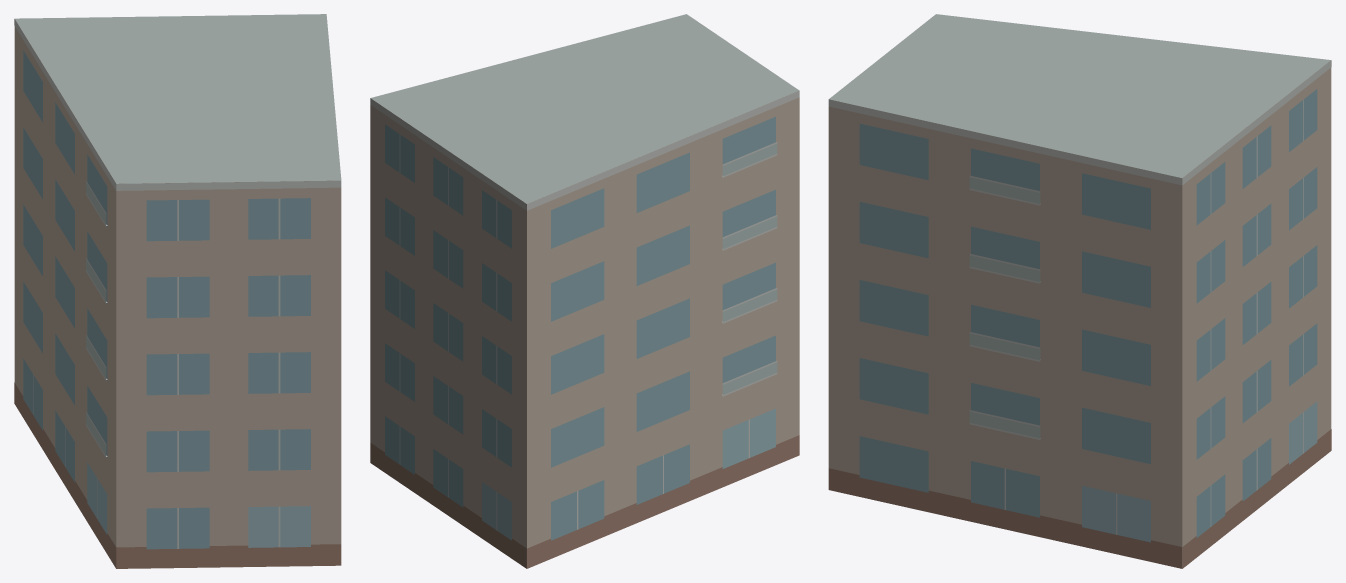
Rendered from survey-upis-32880271.glb.
3 renders of one model, left to right at view 1: azimuth 30°, elevation 25°; view 2: azimuth 150°, elevation 25°; view 3: azimuth 270°, elevation 25°, orthographic. The views are drawn at different scales.
Parts seen in each view (by area): view 1: survey-upis-32880271.tmp; view 2: survey-upis-32880271.tmp; view 3: survey-upis-32880271.tmp.
Part boxes in pixels (x1=…): survey-upis-32880271.tmp: x1=14, y1=14, x2=341, y2=568; survey-upis-32880271.tmp: x1=370, y1=14, x2=799, y2=568; survey-upis-32880271.tmp: x1=828, y1=14, x2=1331, y2=568.
Bounding box in the file's own units: 12 × 13.3 × 15.52.
